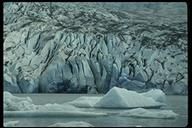ice: (13, 7, 179, 92), (6, 87, 180, 116)
water: (19, 117, 171, 126), (168, 94, 188, 125)
